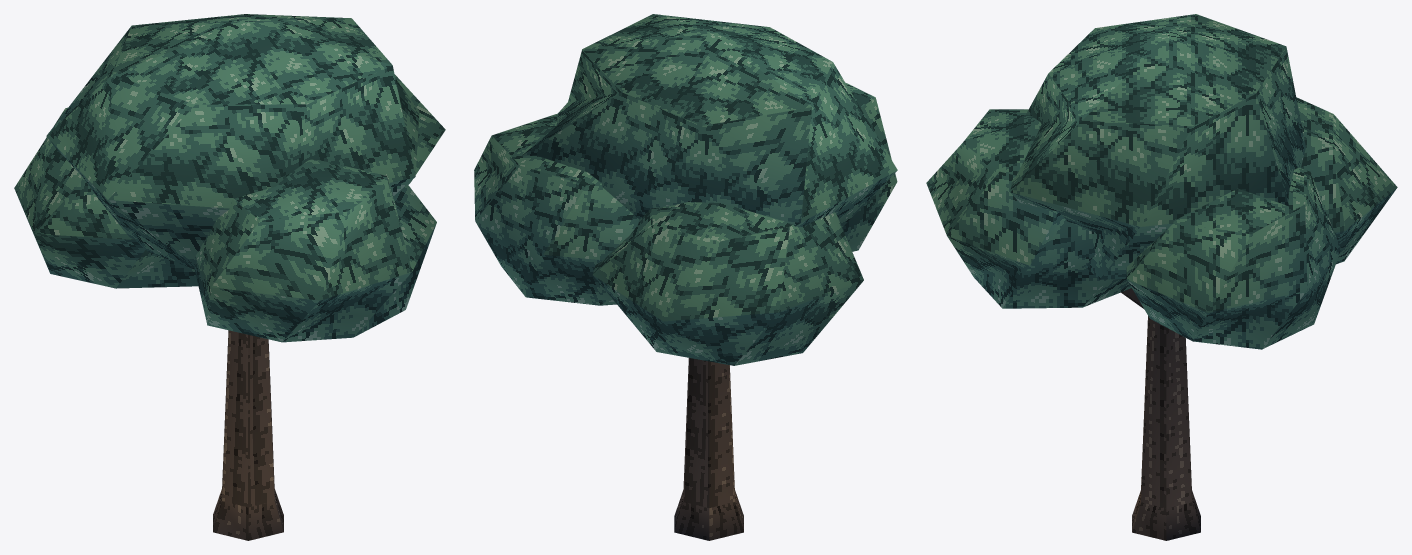
File: mnat.oak.glb
3 views of the same model, side by side, from view 1: azimuth 30°, elevation 25°; view 2: azimuth 150°, elevation 25°; view 3: azimuth 270°, elevation 25° (orthographic). The views are drawn at different scales.
Visible parts, largest first — view 1: kit_crown, kit_trunk; view 2: kit_crown, kit_trunk; view 3: kit_crown, kit_trunk.
Part boxes in pixels (x1,y1,x2,y2): kit_crown: (14, 14, 445, 342); kit_trunk: (213, 330, 283, 540); kit_crown: (474, 14, 897, 365); kit_trunk: (674, 358, 743, 540); kit_crown: (926, 14, 1397, 349); kit_trunk: (1121, 288, 1200, 540).
Bounding box in the file's own units: 5.85 × 6.93 × 6.08.
2 materials, 2 textured.
